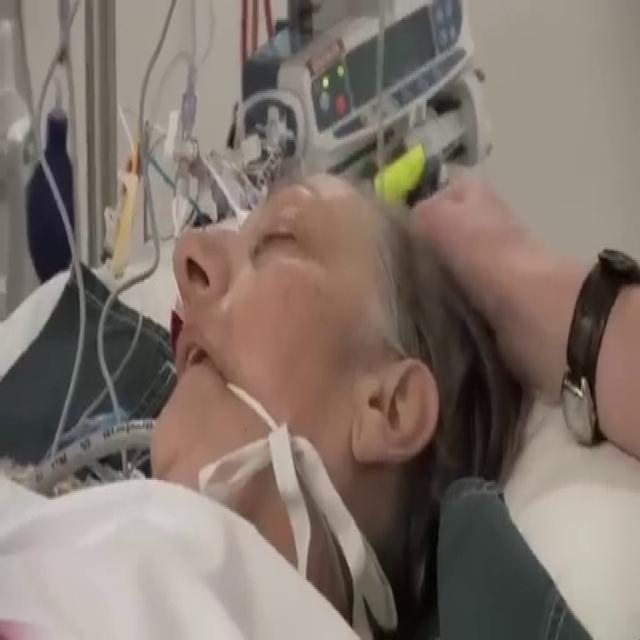patient: (38, 55, 505, 640)
